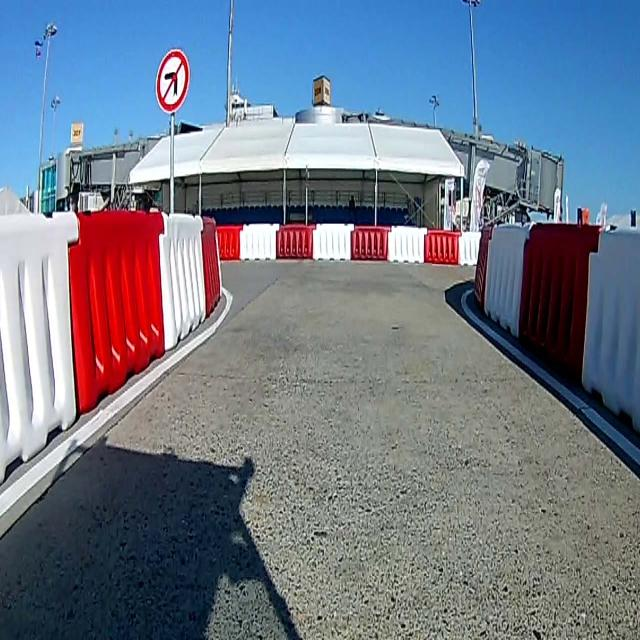soladonulmez: (155, 49, 188, 111)
